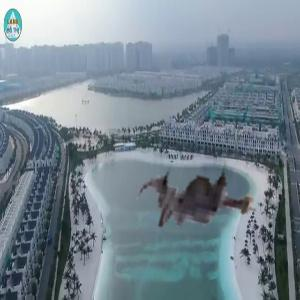drone: (134, 123, 276, 265)
